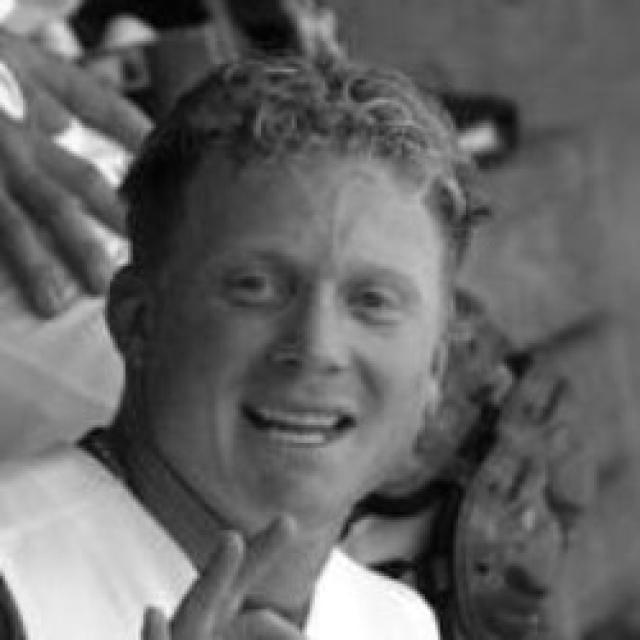real: (130, 56, 462, 548), (188, 249, 425, 331)
